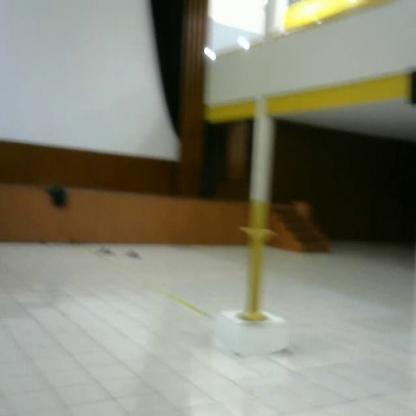pole: (237, 196, 280, 331)
